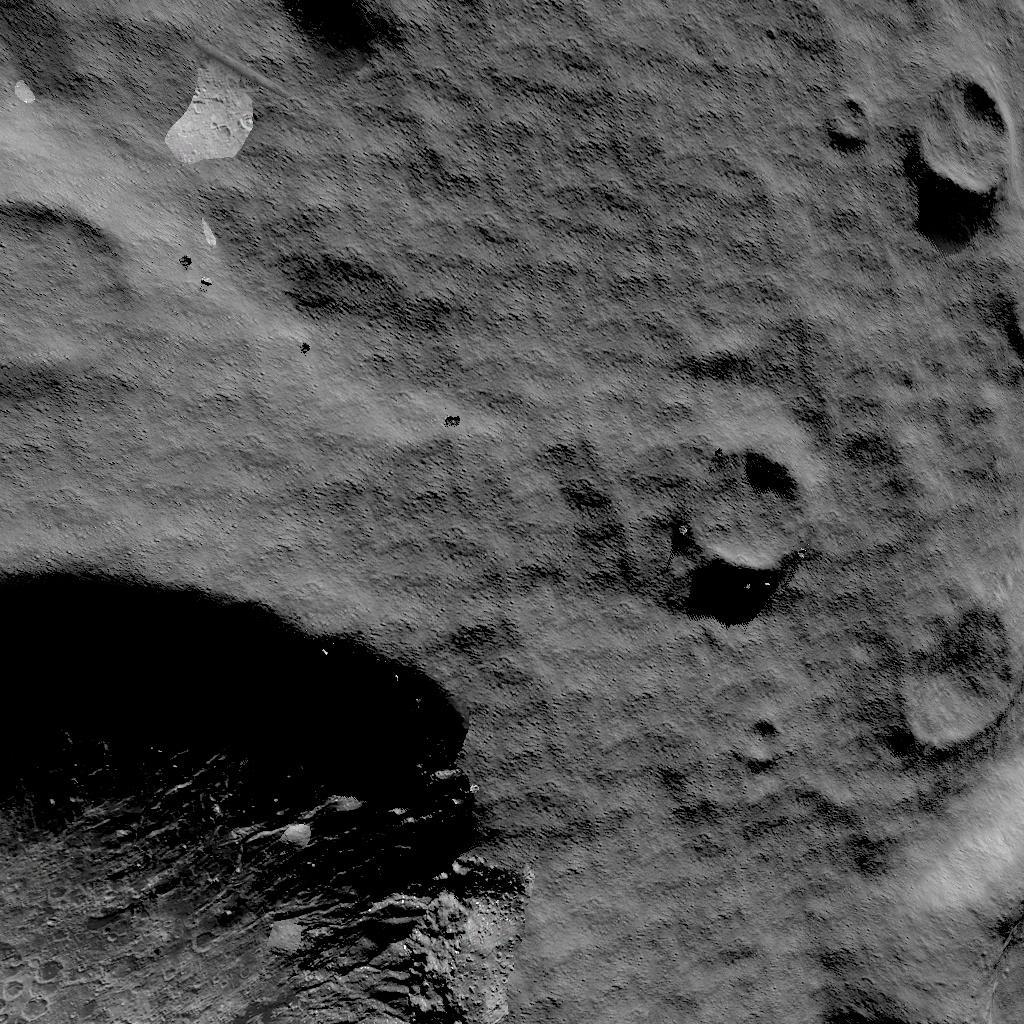Boulders: (158, 58, 269, 156)
Crater: (0, 510, 527, 1024), (0, 130, 135, 398), (882, 815, 1024, 1024), (666, 414, 821, 580), (866, 593, 1024, 750), (909, 54, 1024, 232), (726, 708, 789, 776), (824, 72, 877, 150)
Plan surface: (464, 0, 811, 276), (546, 790, 839, 1024)
